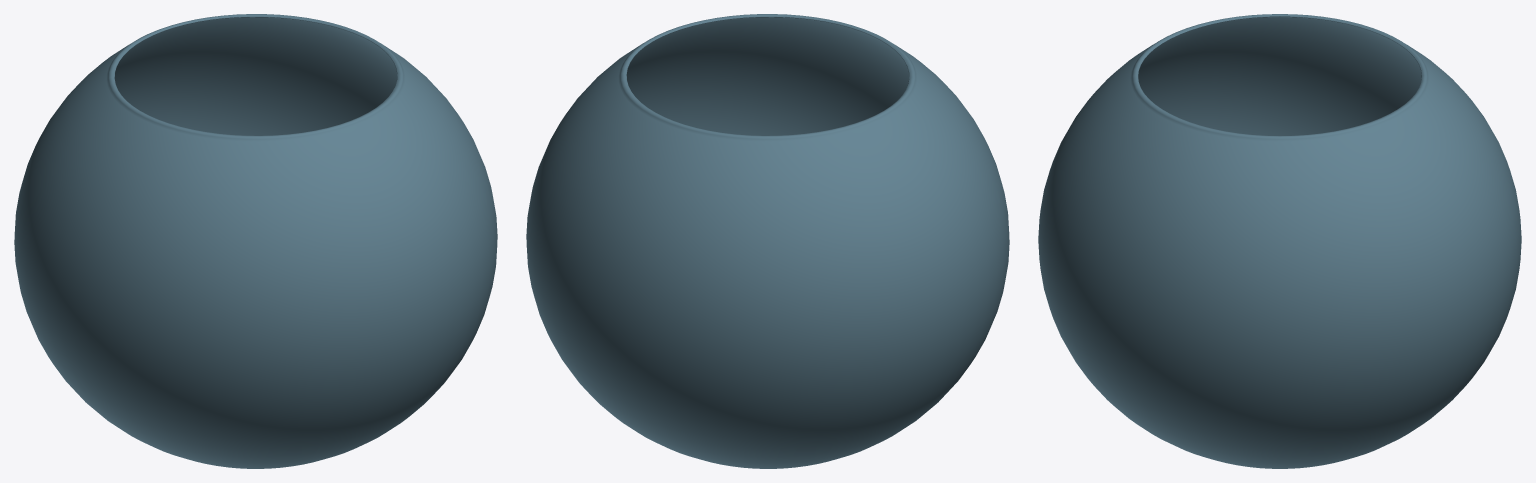
The model's file is fish-bowl.glb.
3 renders of one model, left to right at view 1: azimuth 30°, elevation 25°; view 2: azimuth 150°, elevation 25°; view 3: azimuth 270°, elevation 25°, orthographic.
Visible parts, largest first — view 1: BOL.001; view 2: BOL.001; view 3: BOL.001.
Part boxes in pixels (x1=…): BOL.001: x1=14, y1=14, x2=497, y2=468; BOL.001: x1=526, y1=14, x2=1009, y2=468; BOL.001: x1=1038, y1=14, x2=1521, y2=468.
Bounding box in the file's own units: 0.148 × 0.1183 × 0.148.
